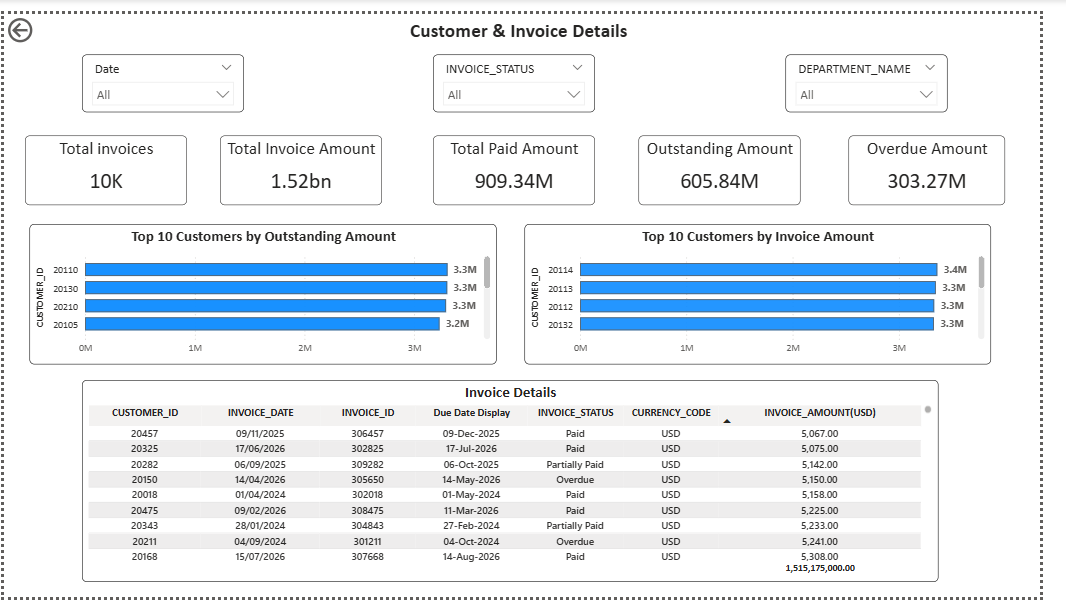

Layout of this report page (visuals, bound fields, positions):
{"tool":"powerbi","page":{"name":"Customer & Invoice Details","canvas":[1280,720],"ordinal":1},"visuals":[{"type":"textbox","box":[100,0,1071.2,40.4],"z":0},{"type":"card","title":"Total invoices","fields":{"Values":["Table.Total invoices"]},"box":[25.4,149.2,200,85.7],"z":1000},{"type":"card","title":"Total Invoice Amount","fields":{"Values":["Table.total invoice amount"]},"box":[266.7,149.2,200,85.7],"z":2000},{"type":"card","title":"Overdue Amount","fields":{"Values":["Table.Overdue amount"]},"box":[1042.9,149.2,193.7,85.7],"z":3000},{"type":"card","title":"Outstanding Amount","fields":{"Values":["Table.Outstanding amount"]},"box":[784.1,149.2,200,85.7],"z":4000},{"type":"clusteredBarChart","title":"Top 10 Customers by Outstanding Amount","fields":{"Category":["AR_INVOICES.CUSTOMER_ID"],"Y":["Table.Outstanding amount"]},"box":[31.8,258.7,576.9,173.1],"z":5000},{"type":"clusteredBarChart","title":"Top 10 Customers by Invoice Amount","fields":{"Category":["AR_INVOICES.CUSTOMER_ID"],"Y":["Table.total invoice amount"]},"box":[643.4,258.7,576,173.1],"z":6000},{"type":"tableEx","title":"Invoice Details","fields":{"Values":["AR_CUSTOMERS.CUSTOMER_ID","AR_INVOICES.INVOICE_DATE","AR_INVOICES.INVOICE_ID","AR_INVOICES.Due Date Display","AR_INVOICES.INVOICE_STATUS","AR_INVOICES.CURRENCY_CODE","Sum(AR_INVOICES.INVOICE_AMOUNT)"]},"box":[96.8,452.4,1057.1,249.2],"z":7000},{"type":"slicer","fields":{"Values":["Calendar.Date"]},"box":[95.8,50.8,200,71],"z":8000},{"type":"slicer","fields":{"Values":["AR_INVOICES.INVOICE_STATUS"]},"box":[530,50.8,200,71],"z":9000},{"type":"slicer","fields":{"Values":["AR_DEPARTMENTS.DEPARTMENT_NAME"]},"box":[964.1,50.8,200,71],"z":10000},{"type":"actionButton","box":[0,0,100,40],"z":11000},{"type":"card","title":"Total Paid Amount","fields":{"Values":["Table.Total paid amount"]},"box":[530.2,149.2,200,85.7],"z":12000}]}

Visuals, with their boxes in screenshot pixels (x1, y1, x2, y2), scaled from the page's 1280x720 canvas onto the 1066x610 screenshot:
textbox: [x1=83, y1=0, x2=975, y2=34]
"Total invoices" card: [x1=21, y1=126, x2=188, y2=199]
"Total Invoice Amount" card: [x1=222, y1=126, x2=389, y2=199]
"Overdue Amount" card: [x1=869, y1=126, x2=1030, y2=199]
"Outstanding Amount" card: [x1=653, y1=126, x2=820, y2=199]
"Top 10 Customers by Outstanding Amount" clusteredBarChart: [x1=26, y1=219, x2=507, y2=366]
"Top 10 Customers by Invoice Amount" clusteredBarChart: [x1=536, y1=219, x2=1016, y2=366]
"Invoice Details" tableEx: [x1=81, y1=383, x2=961, y2=594]
slicer - Calendar.Date: [x1=80, y1=43, x2=246, y2=103]
slicer - AR_INVOICES.INVOICE_STATUS: [x1=441, y1=43, x2=608, y2=103]
slicer - AR_DEPARTMENTS.DEPARTMENT_NAME: [x1=803, y1=43, x2=969, y2=103]
actionButton: [x1=0, y1=0, x2=83, y2=34]
"Total Paid Amount" card: [x1=442, y1=126, x2=608, y2=199]
